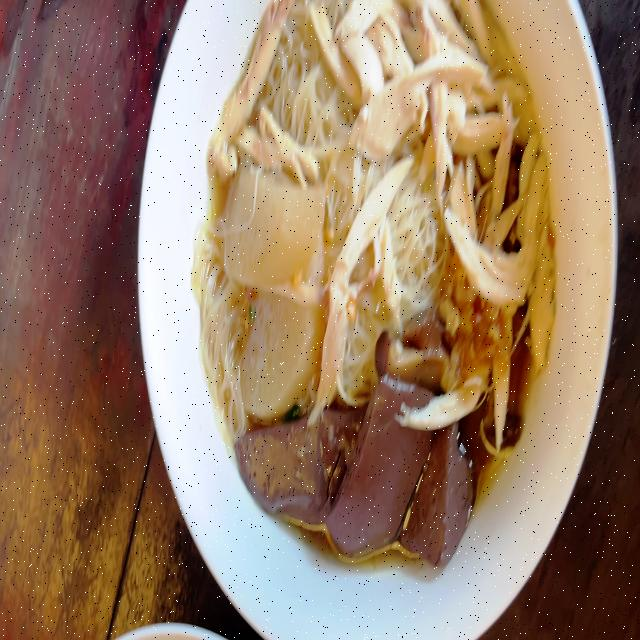boiled_chicken_blood_jelly: (335, 388, 415, 552), (240, 427, 328, 511), (415, 424, 468, 562)
chicken_shredded: (335, 0, 553, 419), (203, 3, 291, 168)
daikon_radish: (219, 180, 321, 278), (237, 289, 307, 416)
noodle: (195, 0, 560, 583)
